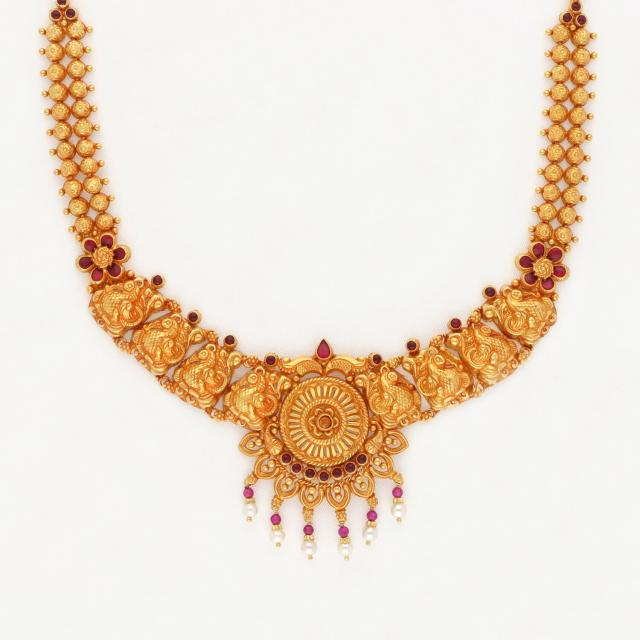missing gem: (320, 416, 331, 428)
